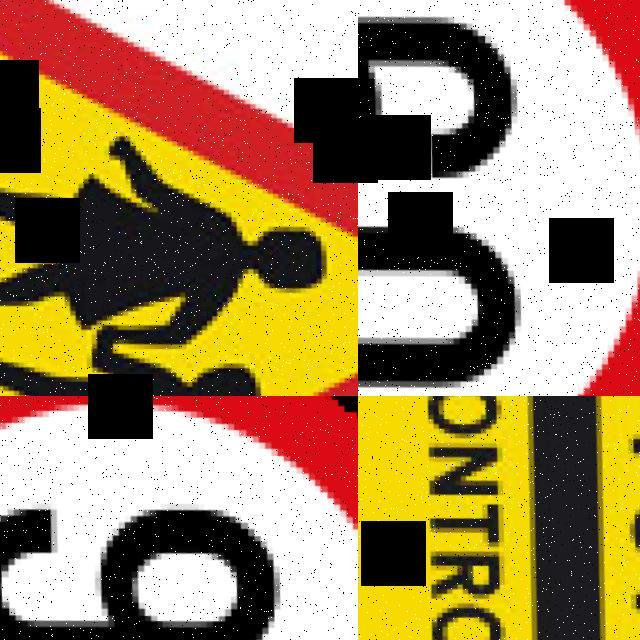116: (358, 396, 640, 640)
132: (0, 0, 358, 396)
speed limit-60: (358, 0, 640, 396)
speed limit-90: (0, 396, 358, 640)
